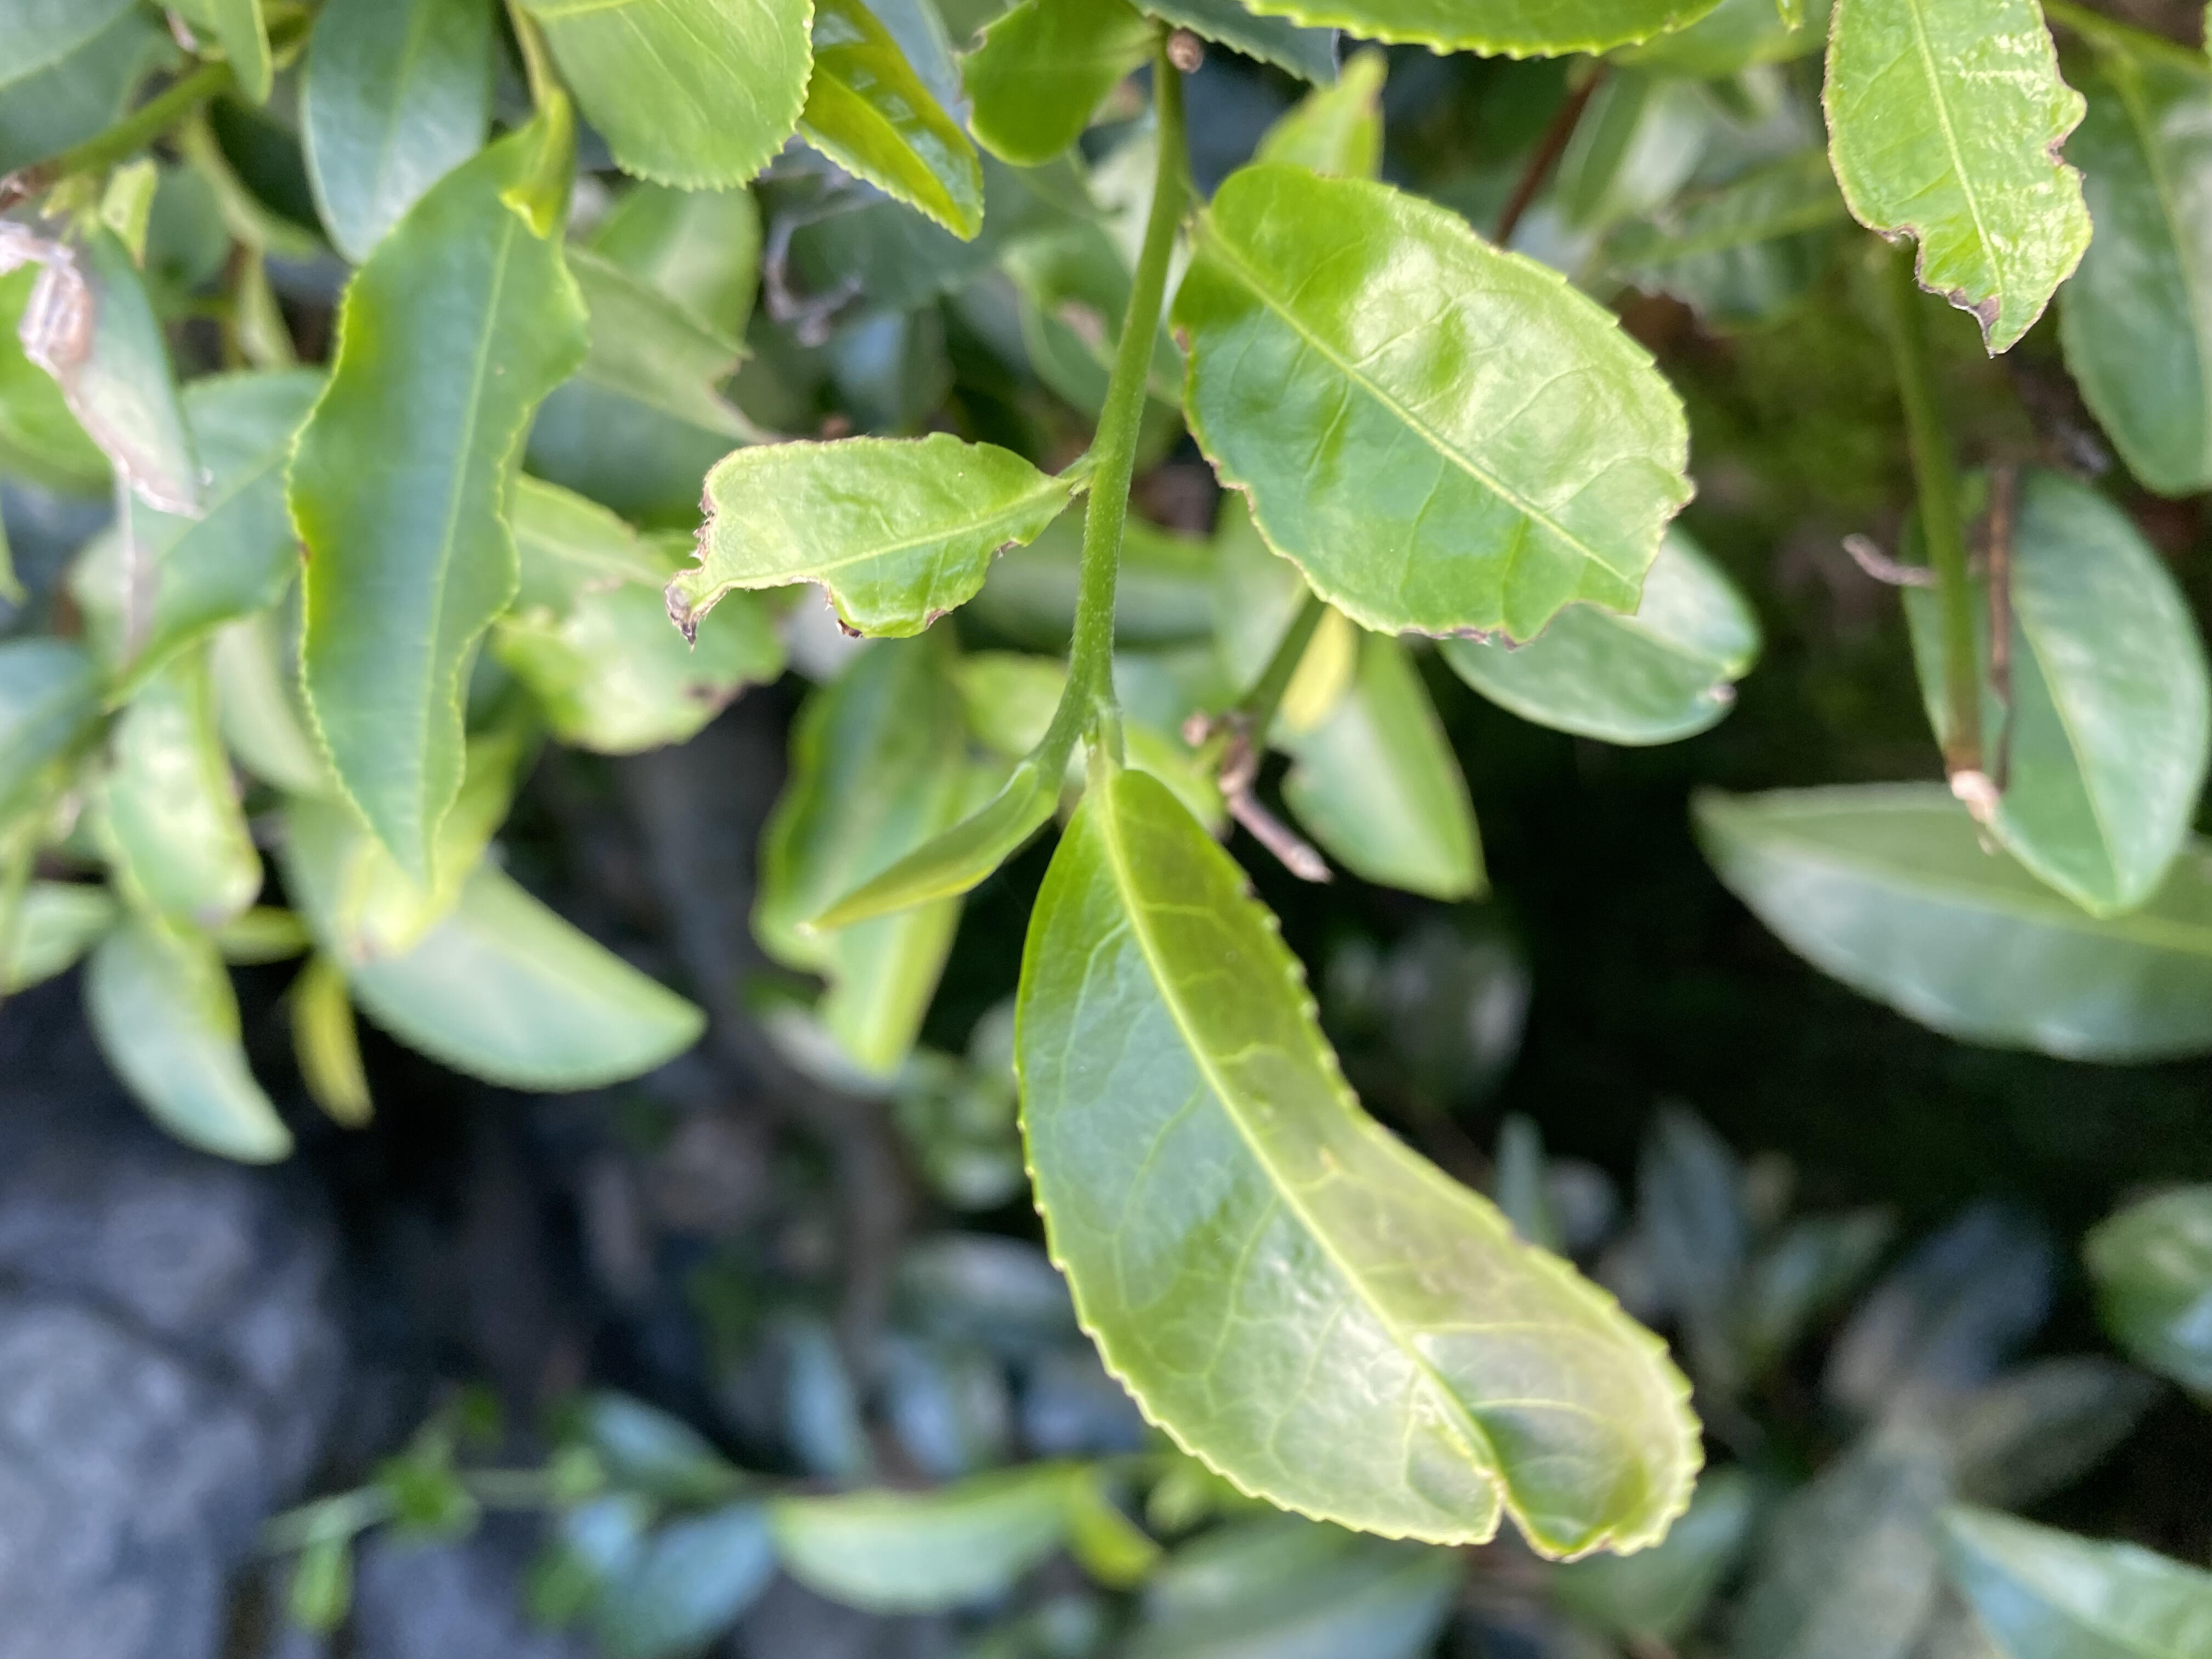chihuo_high: (1169, 162, 1702, 653), (1815, 2, 2101, 361), (662, 430, 1071, 652)
healthy: (1010, 767, 1705, 1563)
